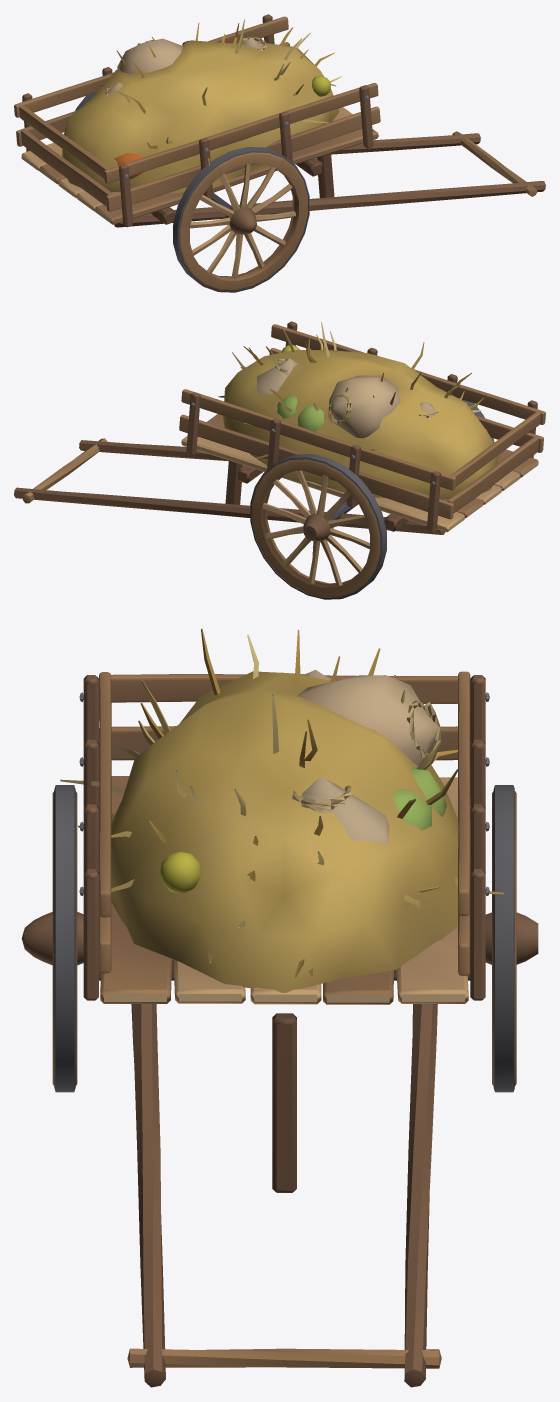
File: pr_cart.glb
3 renders of one model, top to bottom at view 1: azimuth 30°, elevation 25°; view 2: azimuth 150°, elevation 25°; view 3: azimuth 270°, elevation 25°, orthographic. The views are drawn at different scales.
Parts seen in each view (by area): view 1: PR_cart__body, PR_cart__load2, PR_cart__load0, PR_cart__load1; view 2: PR_cart__body, PR_cart__load2, PR_cart__load0, PR_cart__load1; view 3: PR_cart__body, PR_cart__load2, PR_cart__load0, PR_cart__load1.
Boxes of the visible parts, left/top/right/bottom form: PR_cart__body: left=14, top=14, right=545, bottom=292; PR_cart__load2: left=62, top=19, right=341, bottom=193; PR_cart__load0: left=104, top=37, right=266, bottom=95; PR_cart__load1: left=114, top=75, right=330, bottom=179; PR_cart__body: left=14, top=321, right=545, bottom=599; PR_cart__load2: left=218, top=322, right=497, bottom=499; PR_cart__load0: left=256, top=358, right=438, bottom=438; PR_cart__load1: left=277, top=345, right=487, bottom=431; PR_cart__body: left=21, top=671, right=538, bottom=1387; PR_cart__load2: left=60, top=628, right=504, bottom=992; PR_cart__load0: left=292, top=669, right=441, bottom=844; PR_cart__load1: left=159, top=767, right=446, bottom=893.
Bounding box in the file's own units: 3.38 × 1.55 × 1.67.
